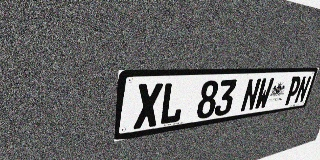3: (213, 79, 237, 117)
8: (195, 80, 221, 120)
L: (158, 82, 186, 125)
N: (240, 78, 262, 112), (293, 76, 312, 104)
P: (283, 76, 302, 105)
W: (253, 78, 275, 110)
X: (133, 83, 163, 129)
